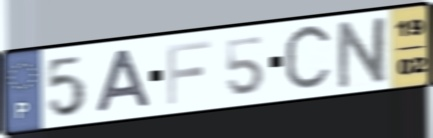5: (45, 52, 91, 120), (223, 34, 267, 98)
A: (93, 47, 154, 116)
C: (281, 20, 335, 97)
F: (164, 37, 215, 107)
N: (334, 13, 392, 92)
